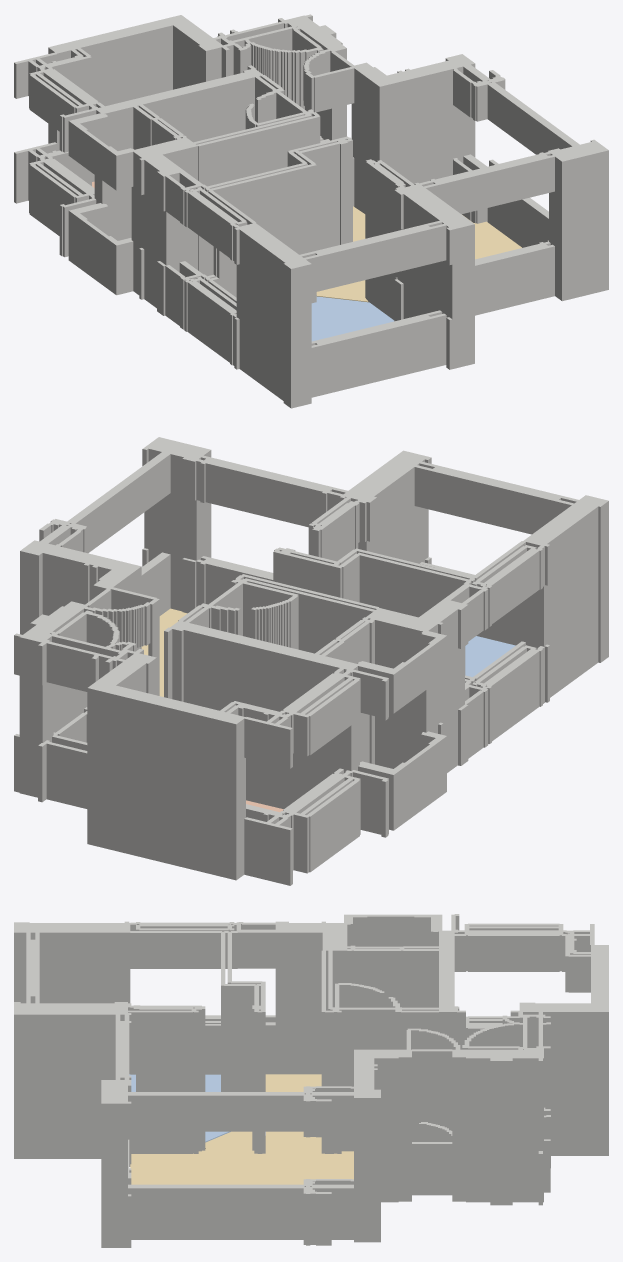
The picture shows the model from 3 angles, top to bottom: view 1: azimuth 30°, elevation 25°; view 2: azimuth 150°, elevation 25°; view 3: azimuth 270°, elevation 25°; orthographic projection. The views are drawn at different scales.
Visible parts, largest first — view 1: walls, room:bedroom:4, room:living:3; view 2: walls, room:bedroom:4, room:living:3; view 3: walls, room:living:3, room:bedroom:4.
Part boxes in pixels (x1,y1,x2,y2): walls: (14,14,608,408); room:bedroom:4: (311,296,394,341); room:living:3: (316,206,521,302); walls: (14,437,608,885); room:bedroom:4: (465,636,515,677); room:living:3: (141,608,187,696); walls: (14,914,608,1247); room:living:3: (130,1074,353,1184); room:bedroom:4: (129,1074,230,1142).
Size of the model in its own units: 7.9 by 2.8 by 10.47.
